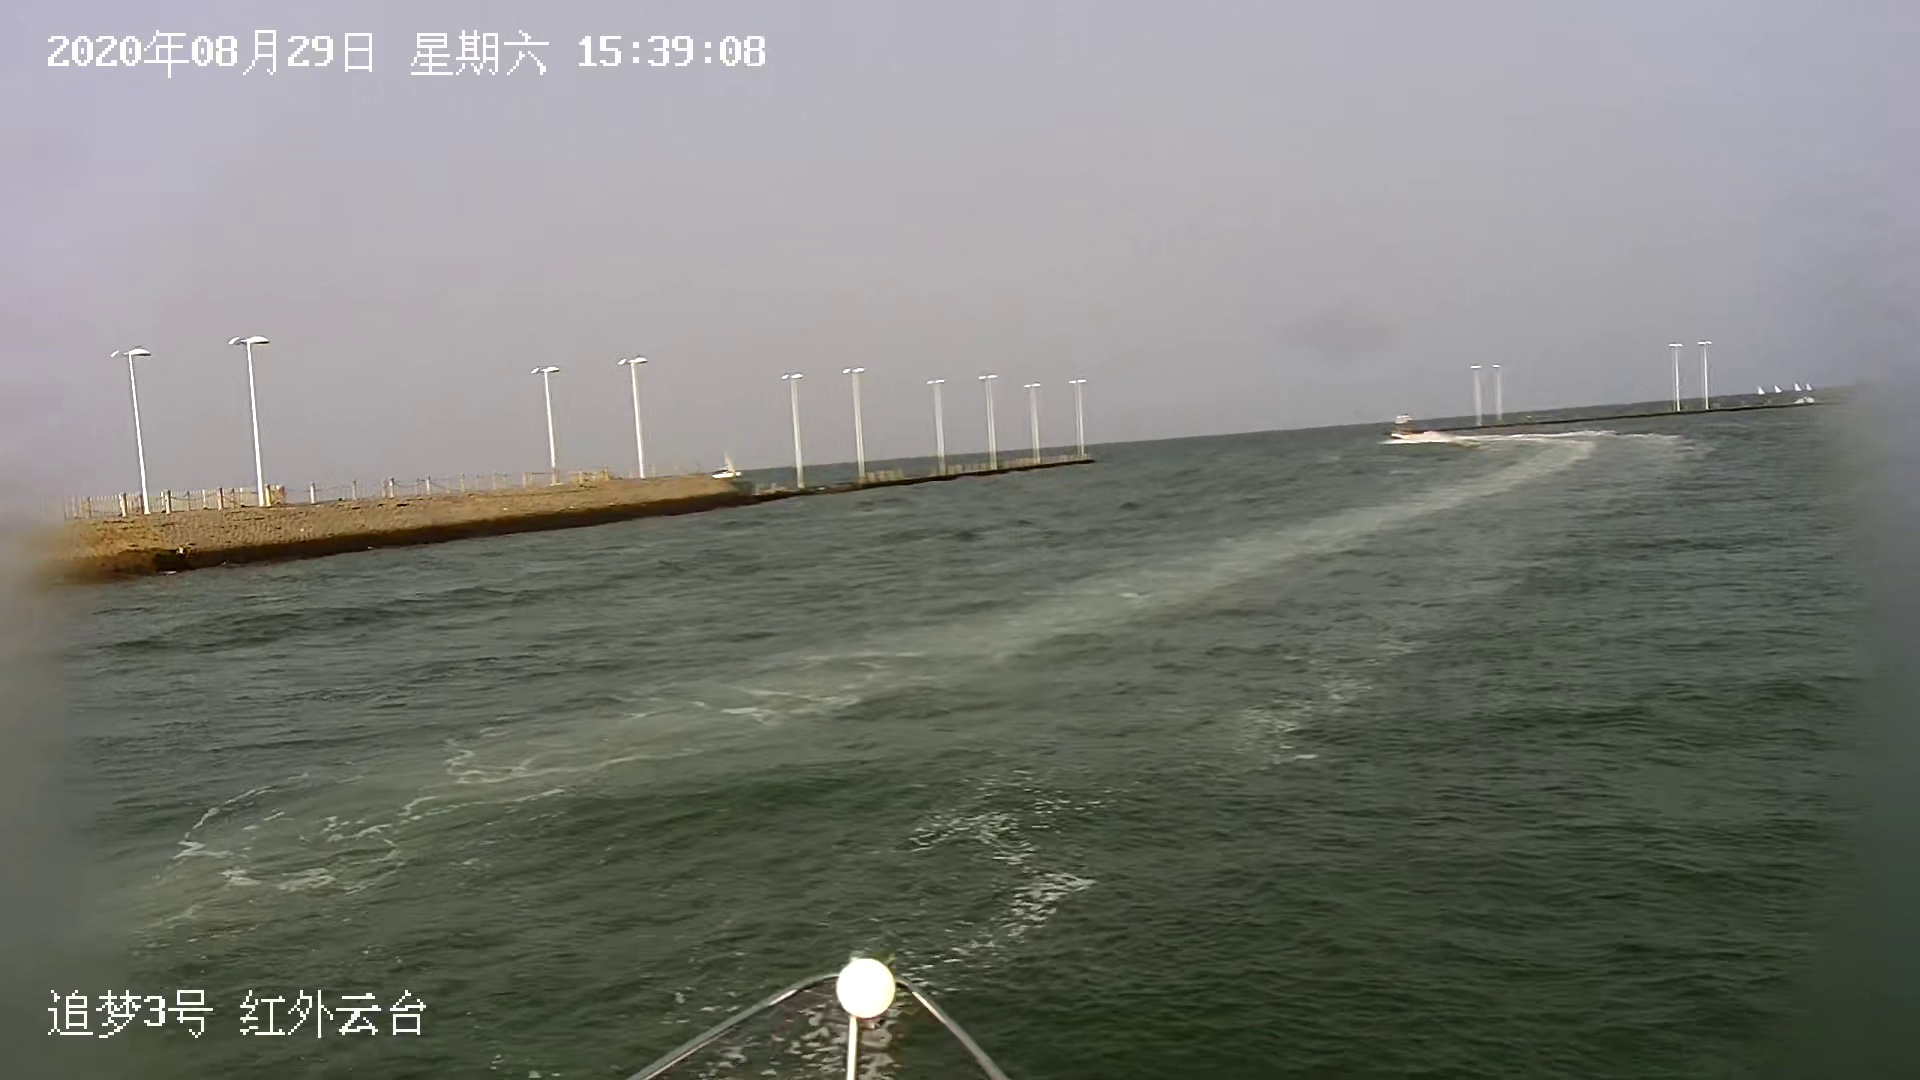barrier: (709, 444, 738, 483), (1394, 411, 1411, 426), (1792, 380, 1803, 394), (1804, 381, 1815, 393), (1774, 382, 1782, 396), (1756, 384, 1764, 396)
coast: (17, 328, 1095, 582), (1407, 330, 1908, 438)
